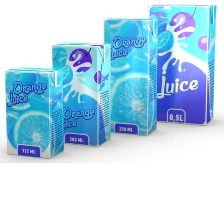carton: (146, 0, 220, 128), (49, 40, 114, 149), (101, 16, 159, 136), (4, 64, 64, 161)
